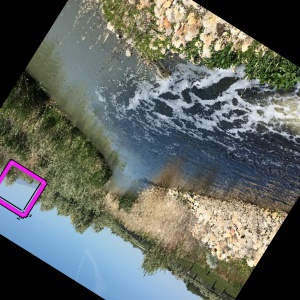square: (1, 158, 52, 222)
